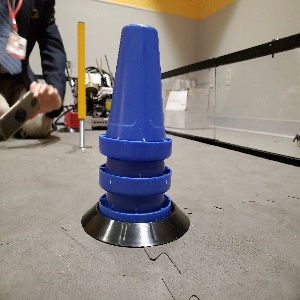Blue_3: (98, 21, 173, 223)
